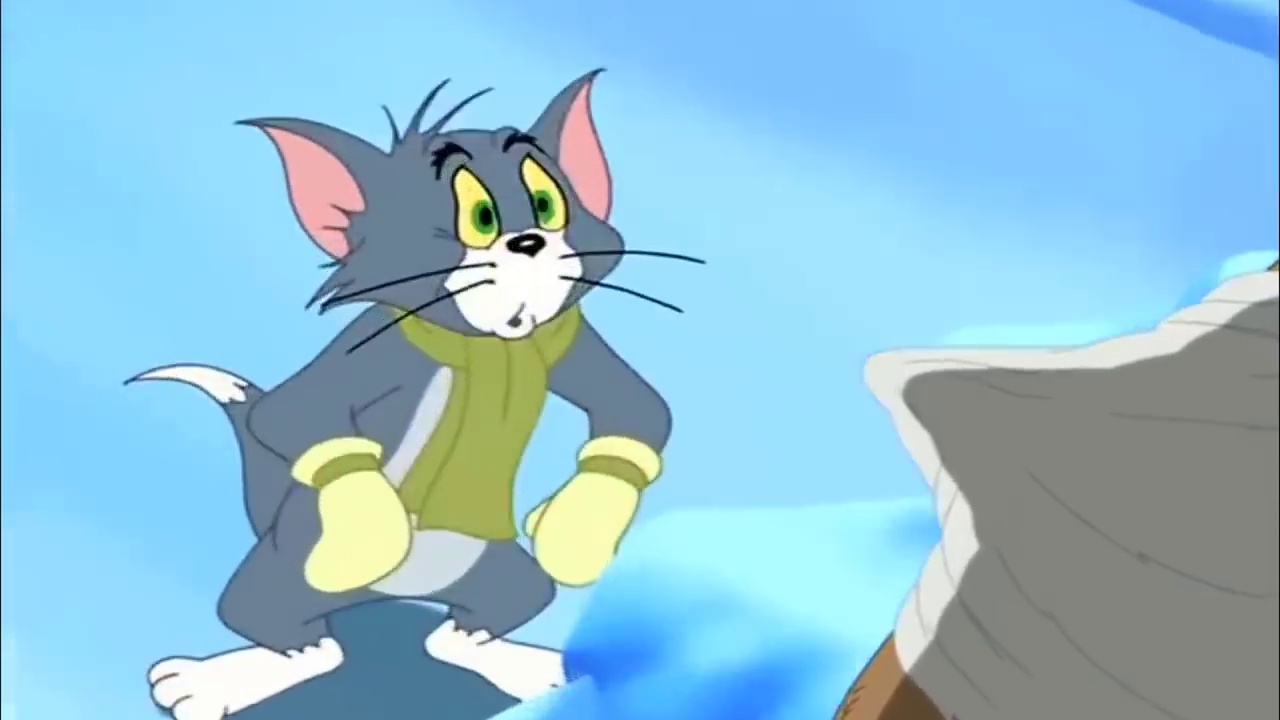face: (424, 129, 591, 341)
